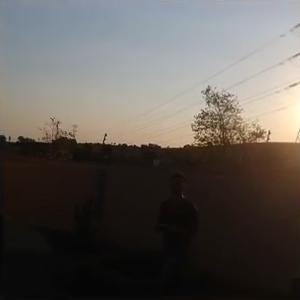follow: (145, 167, 199, 298)
